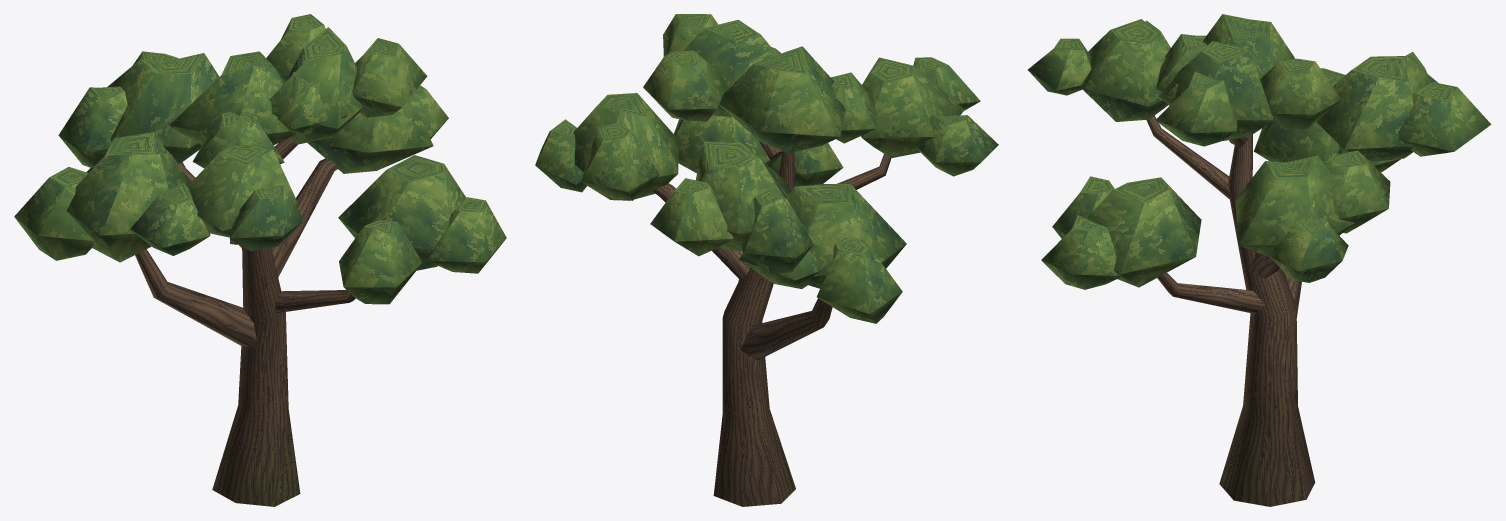
Rendered from tree-oak-lod1.glb.
The picture shows the model from 3 angles, left to right: view 1: azimuth 30°, elevation 25°; view 2: azimuth 150°, elevation 25°; view 3: azimuth 270°, elevation 25°; orthographic projection. The views are drawn at different scales.
Parts seen in each view (by area): view 1: Tree_oak; view 2: Tree_oak; view 3: Tree_oak.
Boxes of the visible parts, x1,y1,x2,y2 form: Tree_oak: (14,14,506,506); Tree_oak: (535,14,998,506); Tree_oak: (1028,14,1491,506).
Bounding box in the file's own units: 6.81 × 7.52 × 6.76.
2 materials, 2 textured.
